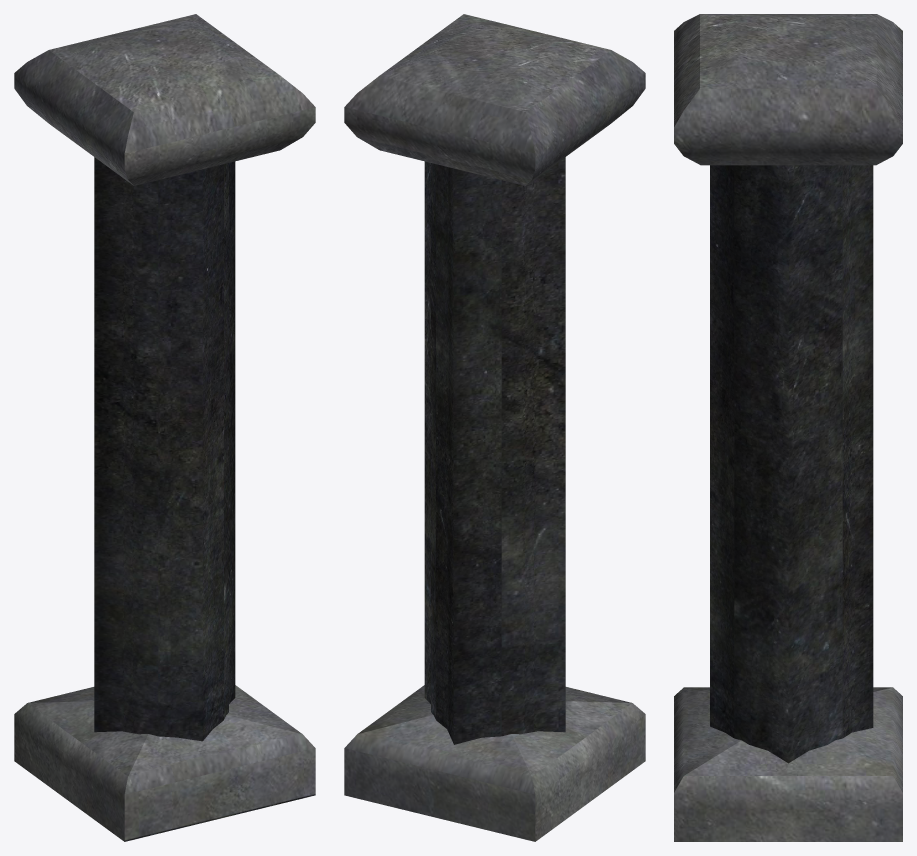
The model's file is pillarmodel.fbx.
3 views of the same model, side by side, from view 1: azimuth 30°, elevation 25°; view 2: azimuth 150°, elevation 25°; view 3: azimuth 270°, elevation 25° (orthographic). The views are drawn at different scales.
Visible parts, largest first — view 1: pPipe1; view 2: pPipe1; view 3: pPipe1.
Boxes of the visible parts, left/top/right/bottom form: pPipe1: left=14, top=14, right=315, bottom=841; pPipe1: left=344, top=14, right=645, bottom=841; pPipe1: left=674, top=14, right=902, bottom=841.
Size of the model in its own units: 3.42 by 12.43 by 3.42.
Materials: 1 (1 with a texture image).
